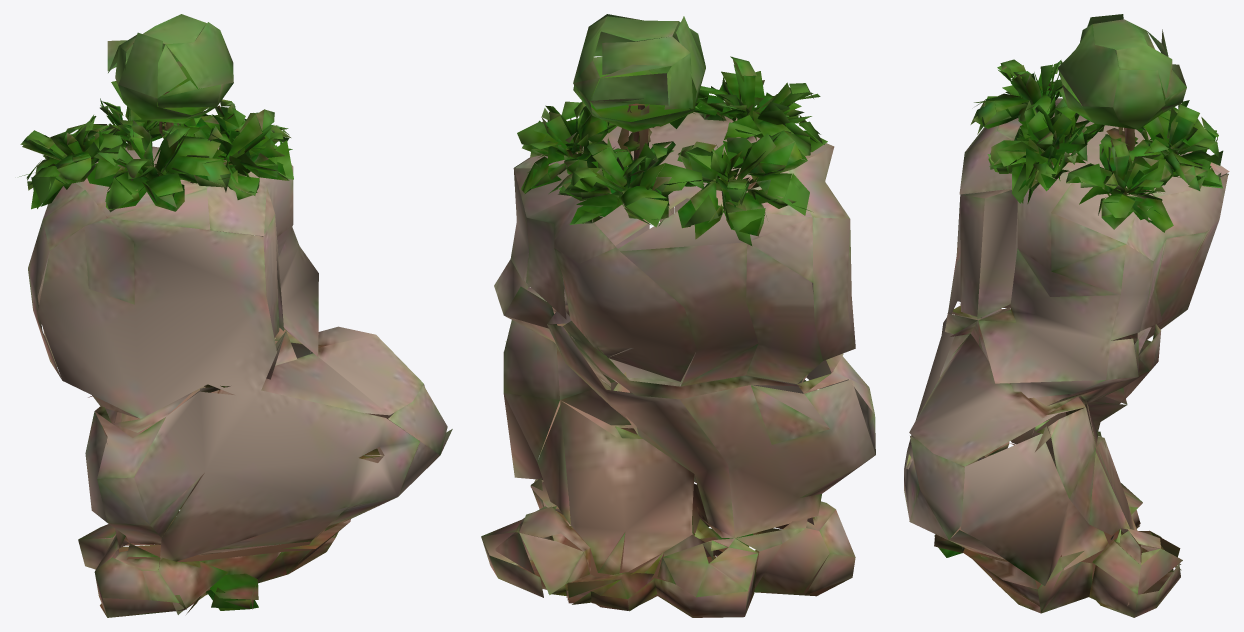
Rendered from rock_column.glb.
3 renders of one model, left to right at view 1: azimuth 30°, elevation 25°; view 2: azimuth 150°, elevation 25°; view 3: azimuth 270°, elevation 25°, orthographic. The views are drawn at different scales.
Visible parts, largest first — view 1: tripo_node_bc8a4ab0-098c-481f-86c5-28ea378f61e9; view 2: tripo_node_bc8a4ab0-098c-481f-86c5-28ea378f61e9; view 3: tripo_node_bc8a4ab0-098c-481f-86c5-28ea378f61e9.
Part boxes in pixels (left/top/right/bottom): tripo_node_bc8a4ab0-098c-481f-86c5-28ea378f61e9: left=19, top=14, right=452, bottom=617; tripo_node_bc8a4ab0-098c-481f-86c5-28ea378f61e9: left=481, top=14, right=875, bottom=617; tripo_node_bc8a4ab0-098c-481f-86c5-28ea378f61e9: left=904, top=14, right=1229, bottom=617.
Bounding box in the file's own units: 0.7414 × 1.02 × 0.5669.
Materials: 1 (1 with a texture image).
